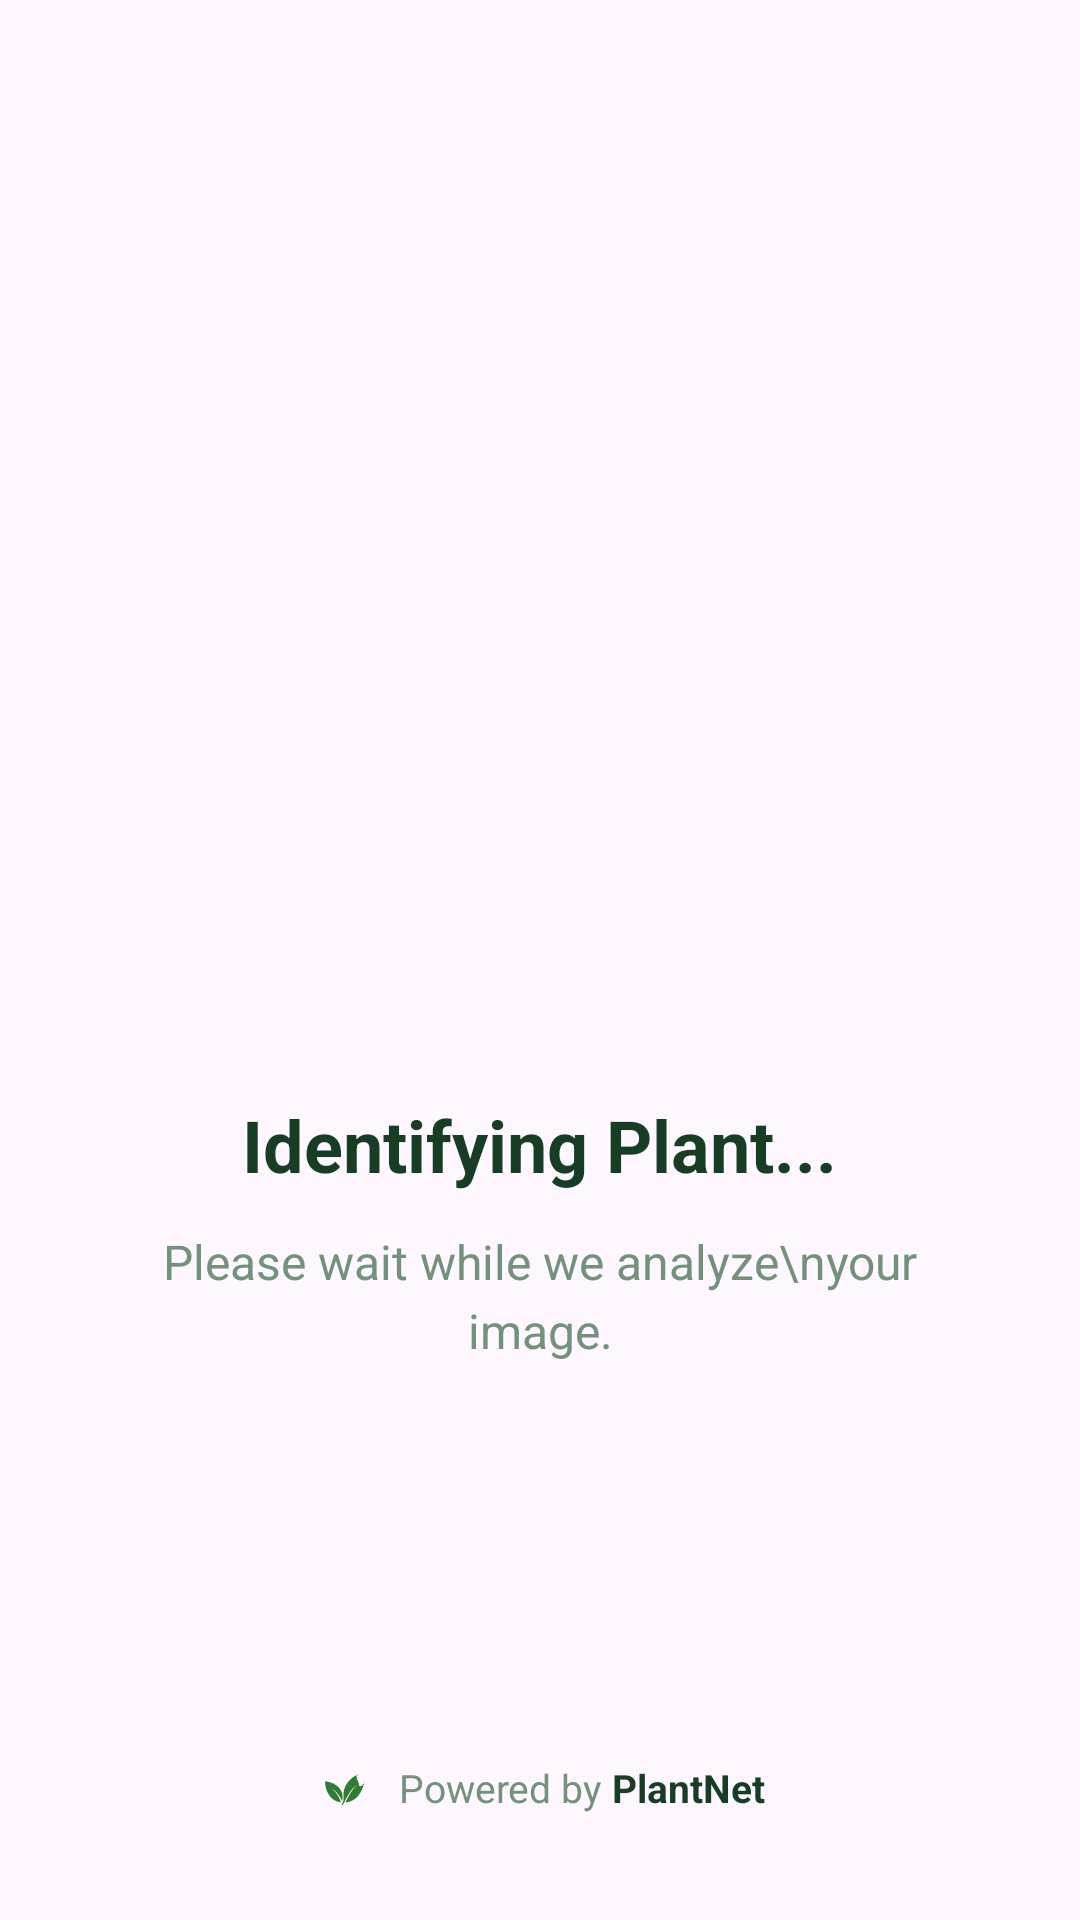

Where icons sit on this 1080w x 1920h app screen, as (left=x1, top=y1, right=x2, bottom=y2):
leaf: (left=325, top=1774, right=365, bottom=1806)
